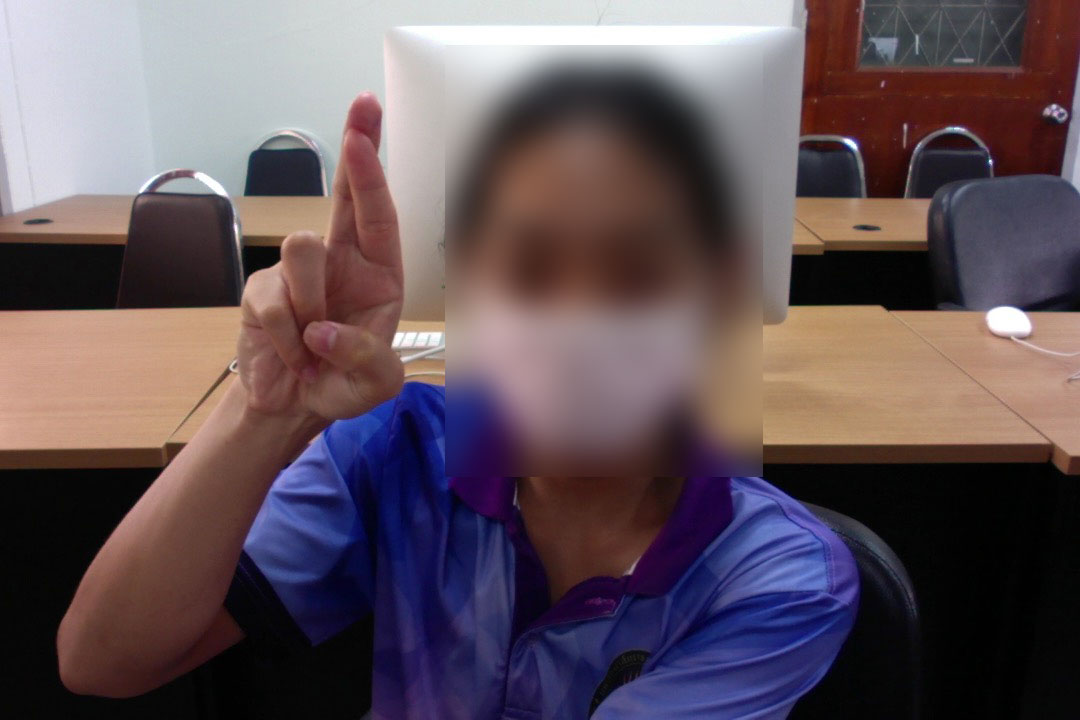rao: (237, 72, 419, 432)
